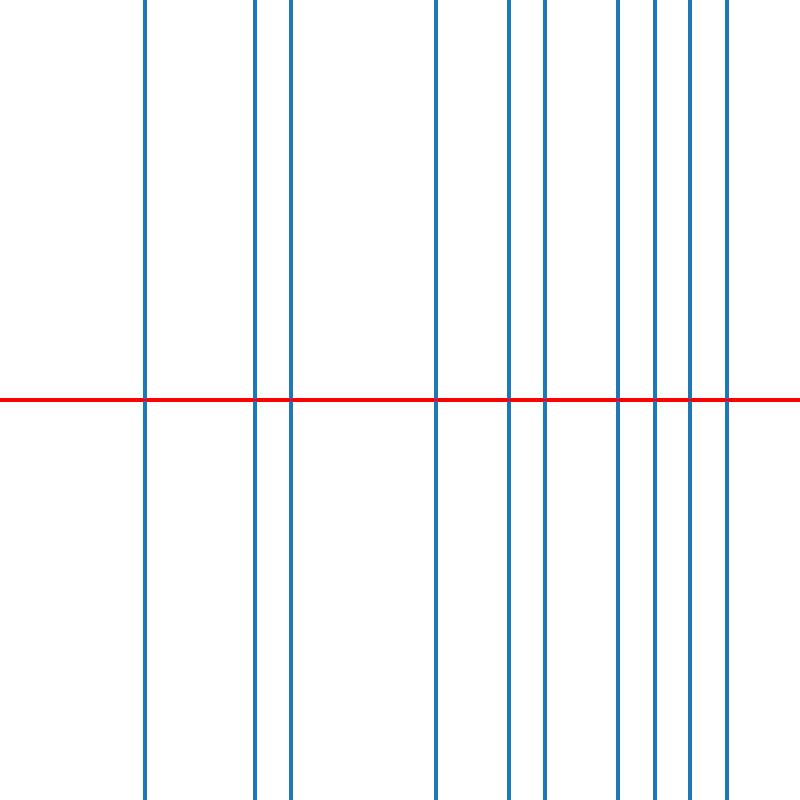root: (650, 396, 658, 404), (250, 396, 258, 404), (432, 396, 440, 404), (541, 396, 549, 404), (141, 396, 149, 404), (614, 396, 621, 404), (723, 396, 730, 404), (287, 396, 294, 404), (687, 396, 694, 404), (505, 396, 512, 404)
